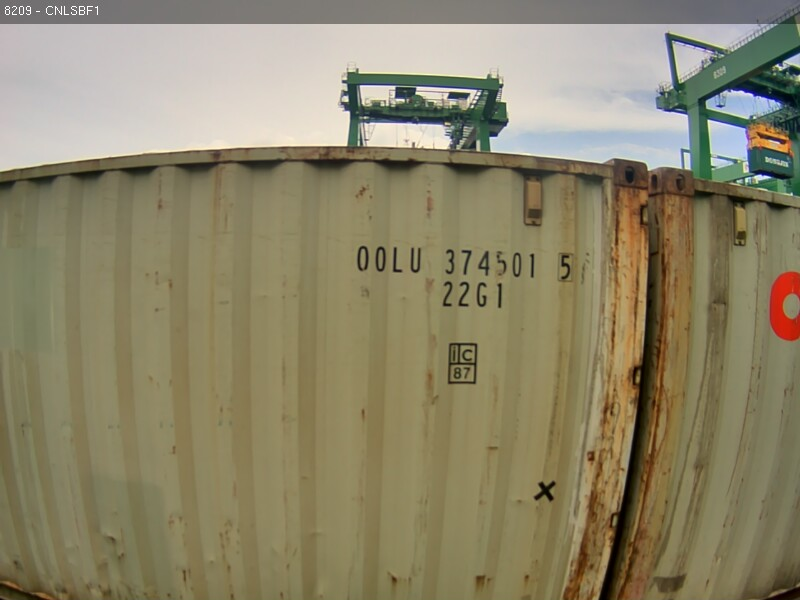container_no_door: (145, 140, 651, 585)
